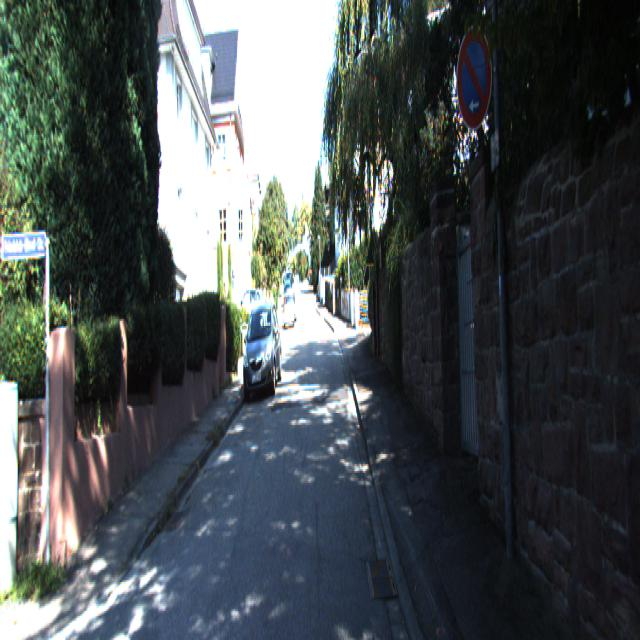Car: (242, 308, 282, 402), (283, 292, 295, 331)
